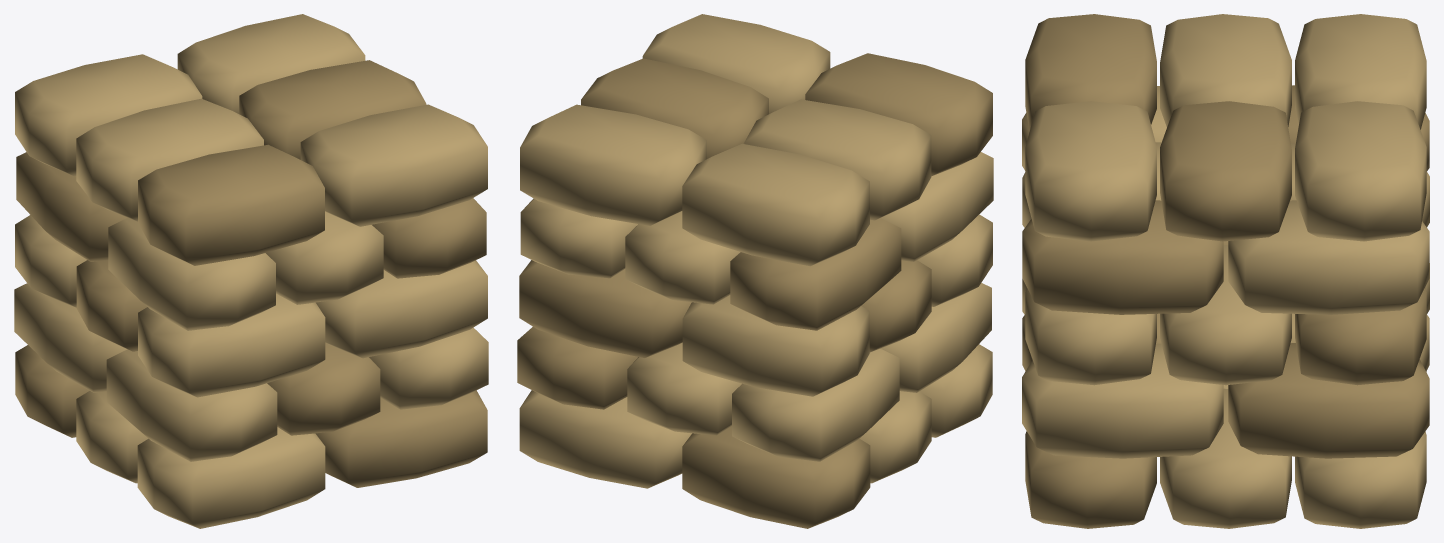
The model's file is sandbag_stack.glb.
3 renders of one model, left to right at view 1: azimuth 30°, elevation 25°; view 2: azimuth 150°, elevation 25°; view 3: azimuth 270°, elevation 25°, orthographic. The views are drawn at different scales.
Visible parts, largest first — view 1: sandbag_stack; view 2: sandbag_stack; view 3: sandbag_stack.
Boxes of the visible parts, <box> form: sandbag_stack: <box>14,14,488,528</box>; sandbag_stack: <box>517,14,993,528</box>; sandbag_stack: <box>1022,14,1429,528</box>.
Size of the model in its own units: 1.03 by 1.02 by 1.03.
